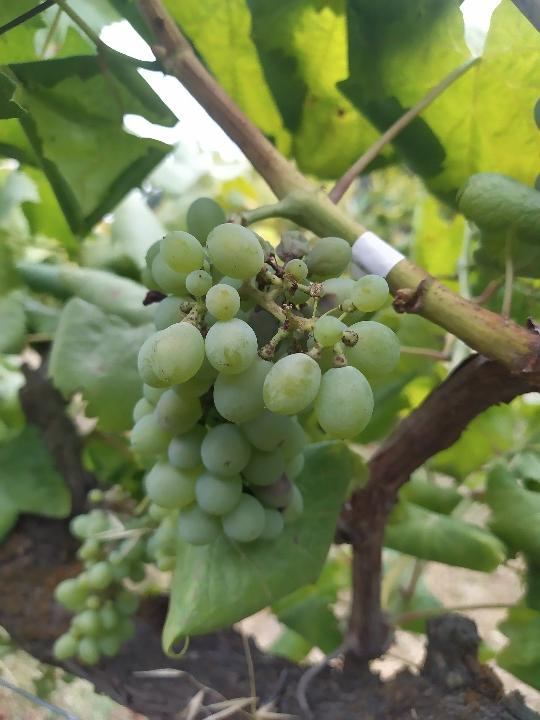grape: (109, 188, 404, 548)
